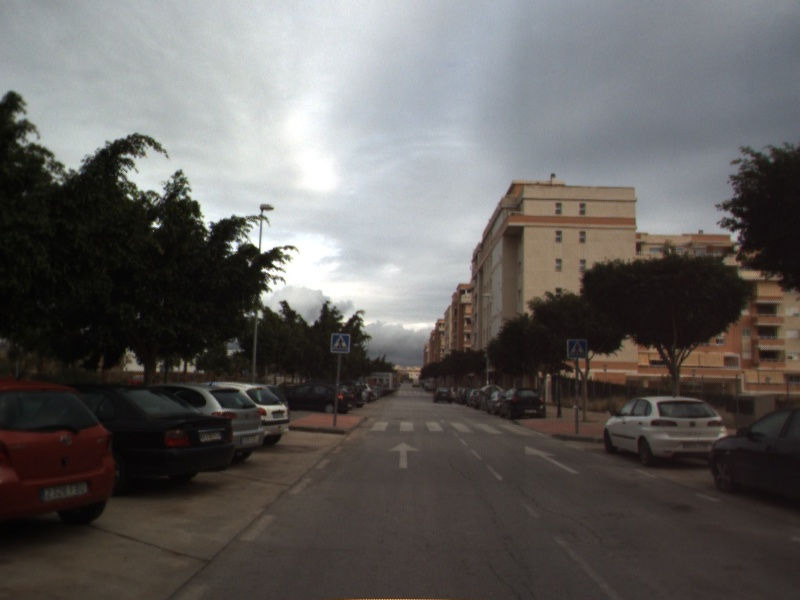STRAIGHT: (523, 444, 581, 475), (386, 440, 421, 470)
